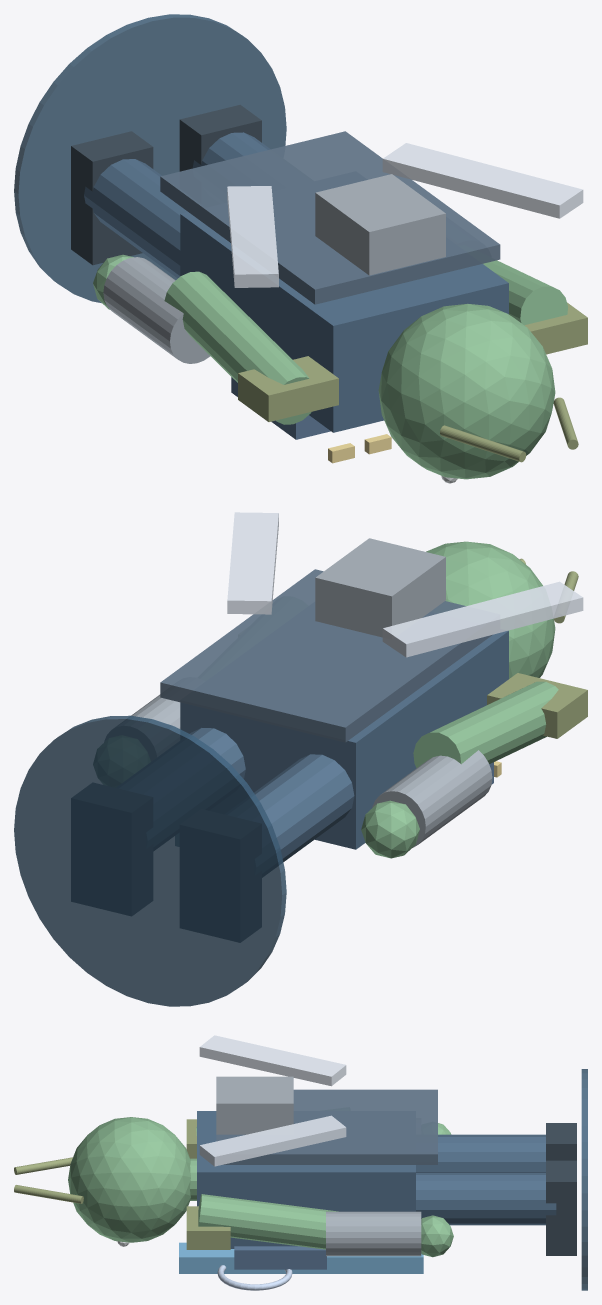
The model's file is SW_NPC_013_mavik_driftforge.glb.
3 renders of one model, top to bottom at view 1: azimuth 30°, elevation 25°; view 2: azimuth 150°, elevation 25°; view 3: azimuth 270°, elevation 25°, orthographic. The views are drawn at different scales.
Parts seen in each view (by area): view 1: round_base_plate, head, storm_cloak, torso_uniform, wingpack_core, left_upper_arm, left_leg, right_wing_rig, left_forearm_gauntlet, left_boot, left_wing_rig, bark_left_shoulder (+8 smaller); view 2: round_base_plate, storm_cloak, torso_uniform, wingpack_core, head, left_wing_rig, left_leg, left_upper_arm, left_forearm_gauntlet, right_wing_rig, left_hand, bark_left_shoulder (+2 smaller); view 3: head, storm_cloak, torso_uniform, right_leg, right_upper_arm, right_forearm_gauntlet, left_leg, wingpack_core, rank_sash, right_wing_rig, left_wing_rig, right_boot (+9 smaller).
Part boxes in pixels (x1,y1,x2,y2): round_base_plate: [14, 14, 286, 303]; head: [378, 303, 555, 479]; storm_cloak: [160, 131, 500, 304]; torso_uniform: [180, 212, 508, 432]; wingpack_core: [315, 174, 445, 275]; left_upper_arm: [164, 271, 311, 424]; left_leg: [84, 159, 187, 278]; right_wing_rig: [382, 143, 583, 218]; left_forearm_gauntlet: [103, 257, 210, 363]; left_boot: [71, 131, 153, 265]; left_wing_rig: [227, 186, 278, 287]; bark_left_shoulder: [238, 356, 338, 421]; round_base_plate: [14, 715, 286, 1006]; storm_cloak: [160, 569, 492, 742]; torso_uniform: [180, 630, 508, 849]; wingpack_core: [315, 538, 445, 637]; head: [426, 541, 555, 678]; left_wing_rig: [382, 581, 583, 657]; left_leg: [254, 754, 354, 861]; left_upper_arm: [413, 681, 558, 767]; left_forearm_gauntlet: [372, 750, 492, 847]; right_wing_rig: [227, 512, 278, 614]; left_hand: [361, 800, 419, 858]; bark_left_shoulder: [487, 673, 587, 738]; head: [68, 1117, 190, 1242]; storm_cloak: [216, 1089, 437, 1164]; torso_uniform: [197, 1111, 415, 1248]; right_leg: [416, 1172, 556, 1225]; right_upper_arm: [198, 1194, 338, 1249]; right_forearm_gauntlet: [326, 1211, 421, 1256]; left_leg: [416, 1134, 545, 1172]; wingpack_core: [216, 1076, 293, 1134]; rank_sash: [179, 1242, 423, 1273]; right_wing_rig: [199, 1115, 346, 1166]; left_wing_rig: [199, 1035, 346, 1086]; right_boot: [546, 1160, 576, 1255].
Size of the model in its own units: 1.36 by 1.05 by 2.72.
